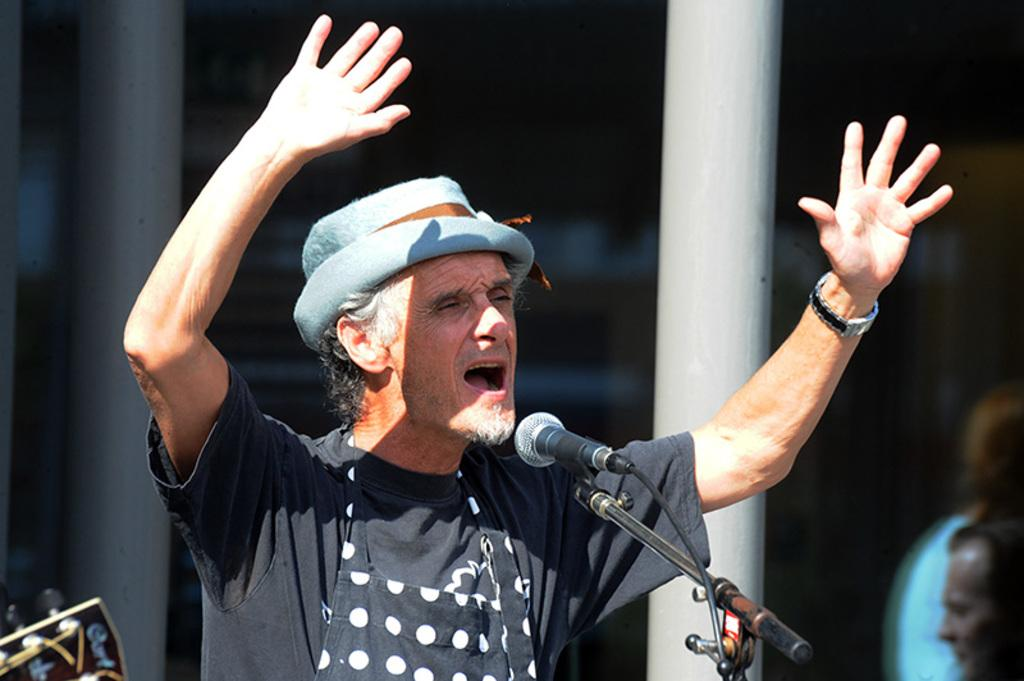Hat: (294, 173, 549, 355)
